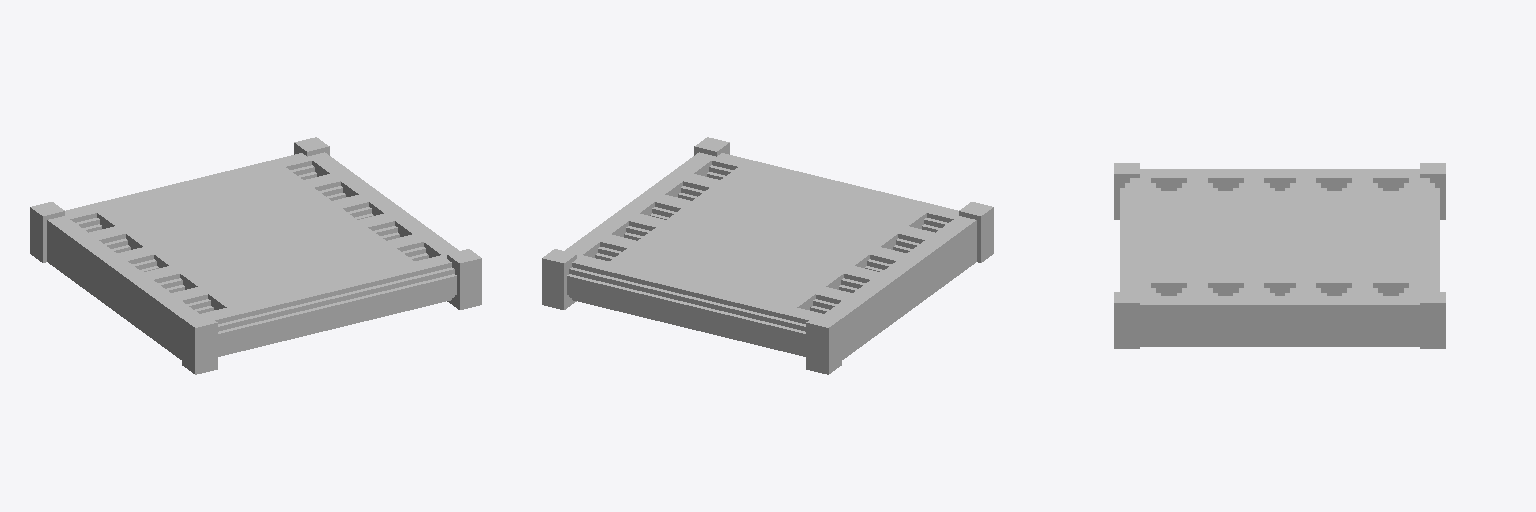
The model's file is Conveyor.obj.
The picture shows the model from 3 angles: view 1: azimuth 30°, elevation 25°; view 2: azimuth 150°, elevation 25°; view 3: azimuth 270°, elevation 25°; orthographic projection.
Bounding box in the file's own units: 64 × 10 × 64.